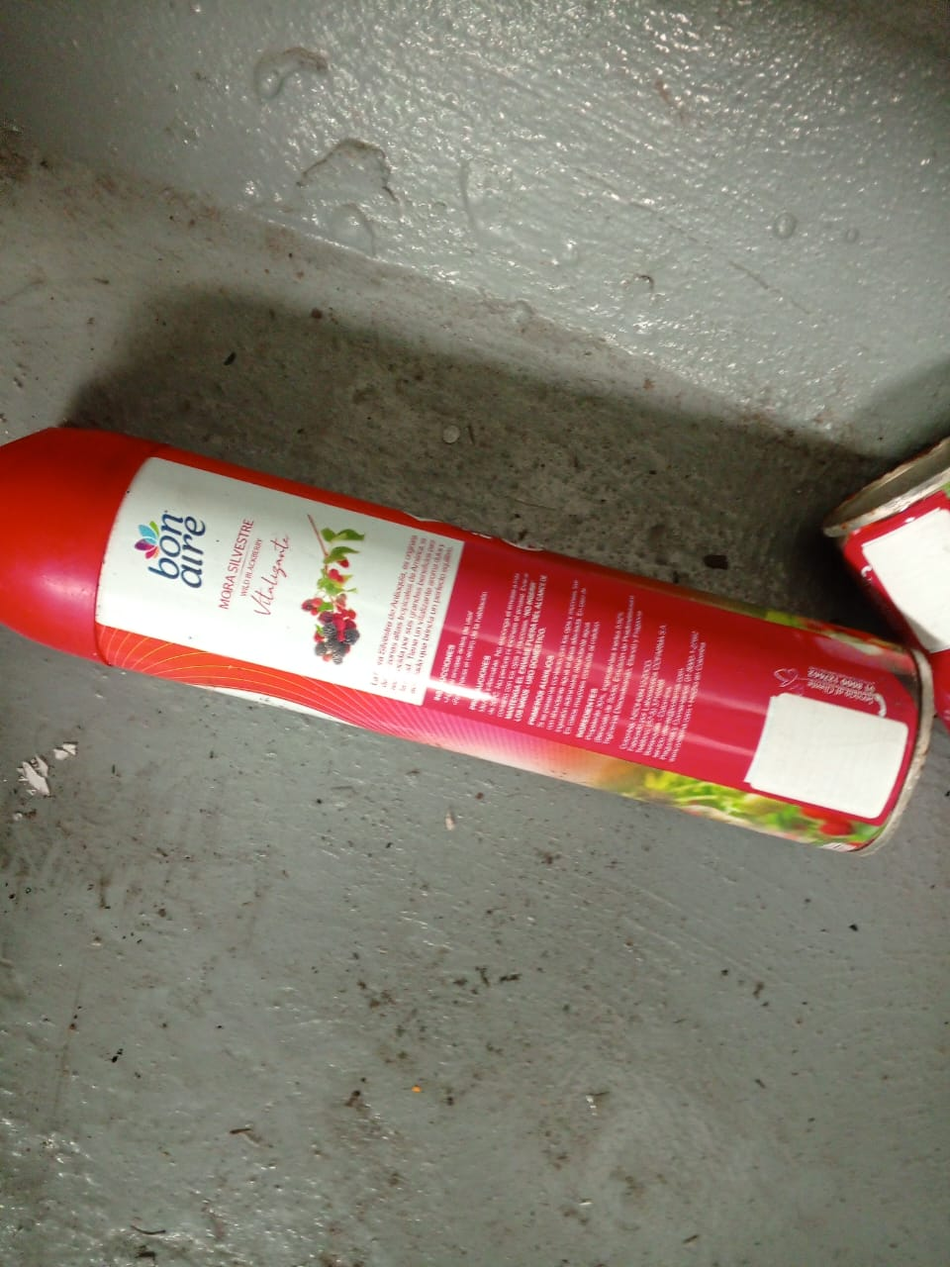Metal: (0, 419, 942, 869)
